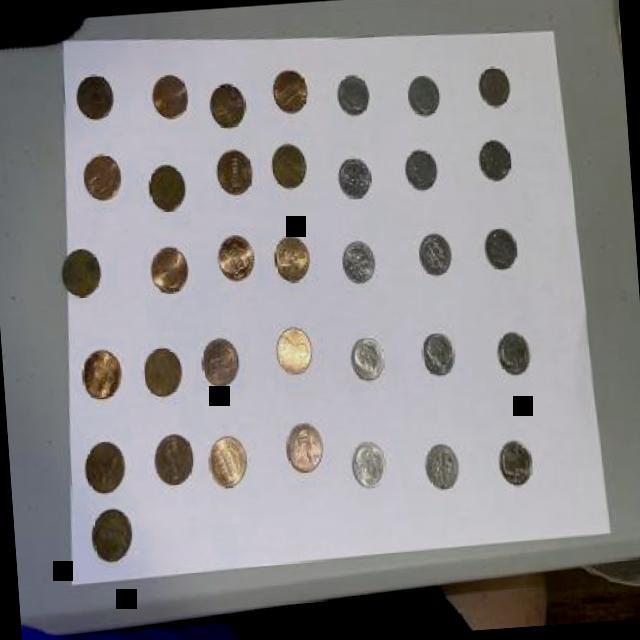Dime: (419, 436, 464, 496), (481, 219, 519, 278), (494, 437, 536, 488), (348, 436, 388, 489), (476, 132, 514, 186), (418, 330, 458, 380), (348, 332, 388, 382), (403, 144, 442, 195), (340, 234, 378, 286), (336, 150, 375, 200), (494, 328, 534, 376), (416, 228, 456, 276), (334, 68, 374, 116), (404, 71, 444, 116), (477, 64, 513, 104)
Penny: (78, 437, 128, 497), (80, 146, 127, 206), (78, 342, 125, 402), (58, 242, 105, 302), (140, 343, 187, 402), (282, 416, 328, 476), (152, 428, 198, 488), (90, 508, 136, 568), (73, 67, 119, 126), (146, 240, 194, 295), (268, 137, 312, 192), (272, 228, 316, 283), (200, 332, 244, 387), (215, 230, 258, 286), (209, 433, 250, 488), (150, 70, 190, 124), (146, 160, 188, 210), (216, 144, 256, 196), (276, 324, 316, 374), (208, 80, 248, 130), (272, 66, 312, 115)
